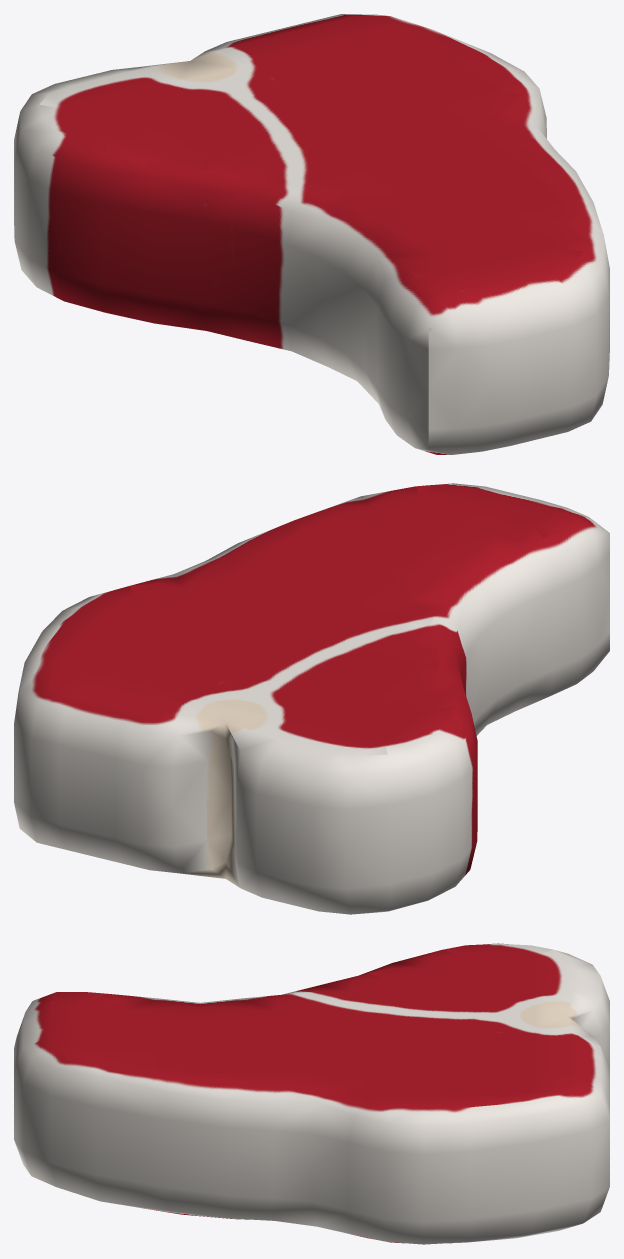
File: steak.obj
3 views of the same model, one above another, from view 1: azimuth 30°, elevation 25°; view 2: azimuth 150°, elevation 25°; view 3: azimuth 270°, elevation 25° (orthographic). The views are drawn at different scales.
Parts seen in each view (by area): view 1: Box001; view 2: Box001; view 3: Box001.
Boxes of the visible parts, x1,y1,x2,y2 form: Box001: (14,14,609,454); Box001: (14,483,609,914); Box001: (14,943,609,1244).
Bounding box in the file's own units: 15 × 5 × 20.
